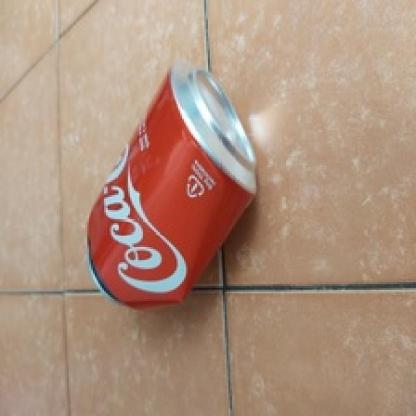Can: (52, 53, 300, 338)
